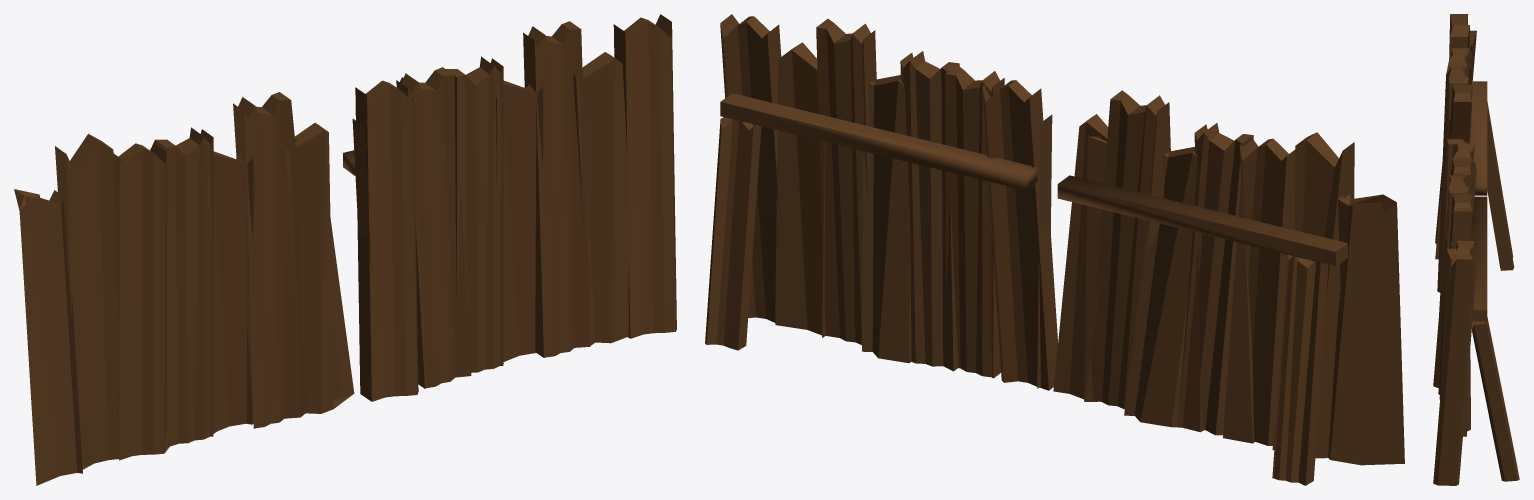
The model's file is WoodenGate.fbx.
The picture shows the model from 3 angles, left to right: view 1: azimuth 30°, elevation 25°; view 2: azimuth 150°, elevation 25°; view 3: azimuth 270°, elevation 25°; orthographic projection. The views are drawn at different scales.
Parts seen in each view (by area): view 1: Cube.018; view 2: Cube.018; view 3: Cube.018.
Boxes of the visible parts, x1=… form: Cube.018: x1=14, y1=14, x2=676, y2=485; Cube.018: x1=705, y1=14, x2=1404, y2=485; Cube.018: x1=1433, y1=14, x2=1519, y2=485.
Size of the model in its own units: 270 by 126 by 39.99.
